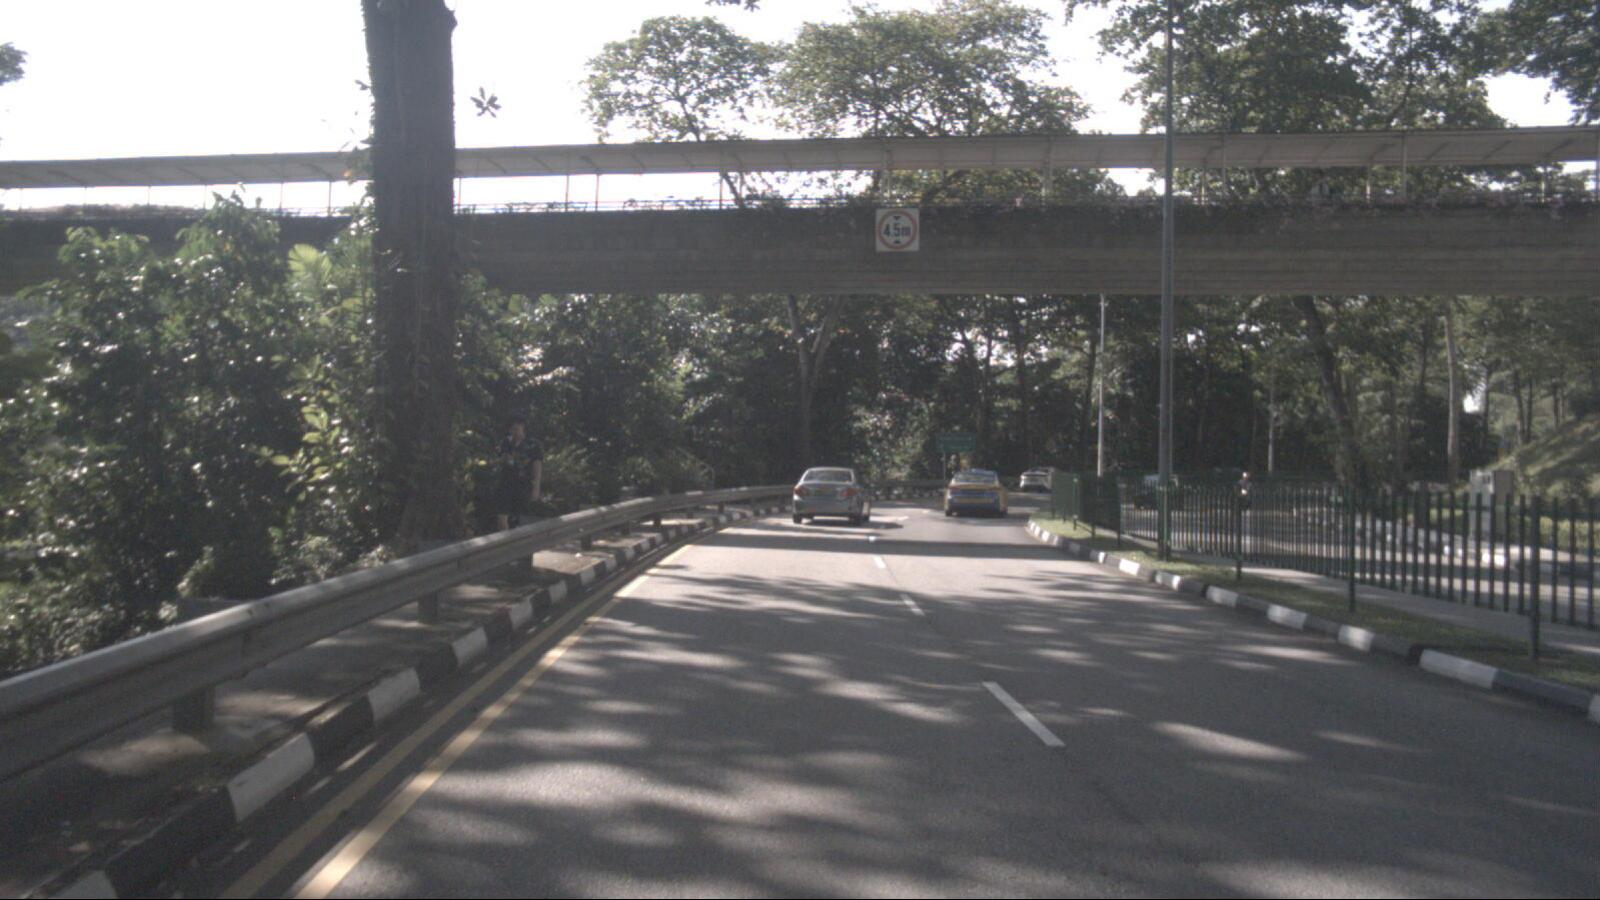human.pedestrian.adult-pedestrian.moving: (495, 412, 544, 551)
vehicle.motorcycle-cycle.with_rider: (1234, 472, 1255, 511)
